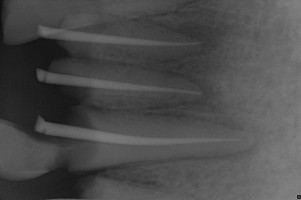Furcation Involvement: (137, 0, 229, 113), (144, 111, 264, 162)
